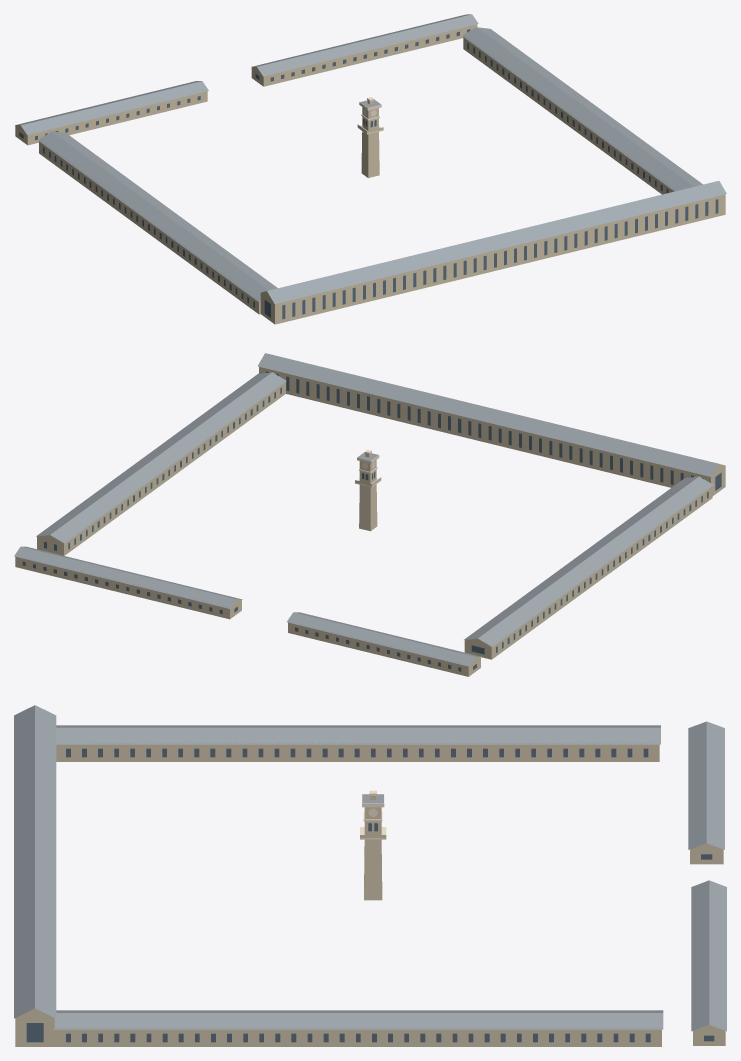
Rendered from sat-fort-sam-quadrangle.glb.
The picture shows the model from 3 angles, top to bottom: view 1: azimuth 30°, elevation 25°; view 2: azimuth 150°, elevation 25°; view 3: azimuth 270°, elevation 25°; orthographic projection. The views are drawn at different scales.
Parts seen in each view (by area): view 1: The Quadrangle, Fort Sam Houston; view 2: The Quadrangle, Fort Sam Houston; view 3: The Quadrangle, Fort Sam Houston.
Boxes of the visible parts, box(x1,y1,x2,y2) form: The Quadrangle, Fort Sam Houston: box(15, 14, 726, 324); The Quadrangle, Fort Sam Houston: box(14, 353, 725, 676); The Quadrangle, Fort Sam Houston: box(14, 705, 726, 1046).
Bounding box in the file's own units: 192 × 30.7 × 190.
